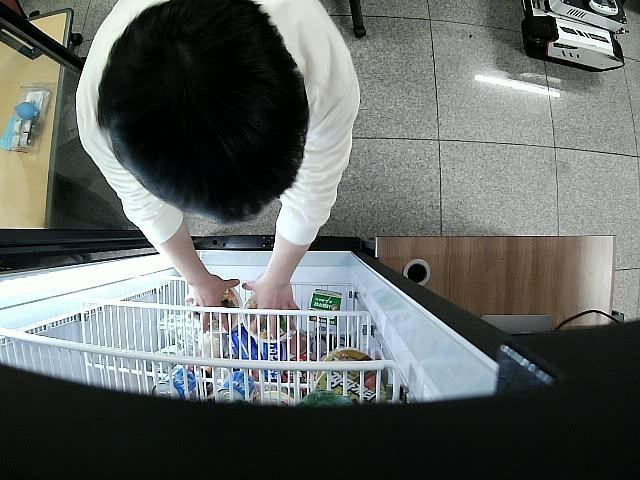09_yukGaeJang: (243, 293, 300, 343), (187, 288, 243, 335)
